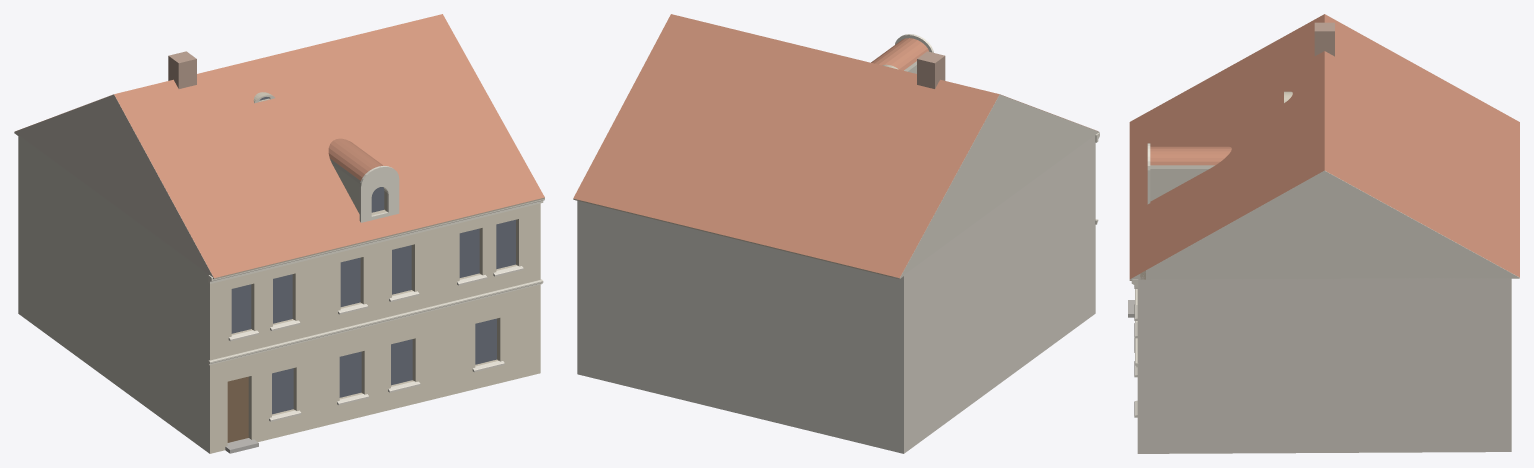
3 views of the same model, side by side, from view 1: azimuth 30°, elevation 25°; view 2: azimuth 150°, elevation 25°; view 3: azimuth 270°, elevation 25° (orthographic). The views are drawn at different scales.
Visible parts, largest first — view 1: CP_261_Masonry, CP_261_Roof, CP_261_Gable_L_gable, CP_261_Dormer_dormer1, CP_261_Cornice_string_0, CP_261_Dormer_dormer1_frame, CP_261_Cornice_eave_0, CP_261_Chimney_0, CP_261_Roof_EaveClosure_1; view 2: CP_261_Masonry, CP_261_Roof, CP_261_Gable_L_gable, CP_261_Dormer_dormer1, CP_261_Chimney_0, CP_261_Roof_EaveClosure_0; view 3: CP_261_Masonry, CP_261_Roof, CP_261_Gable_R_gable, CP_261_Dormer_dormer1, CP_261_Chimney_0.
Part boxes in pixels (box(x1,y1,x2,y2)): CP_261_Masonry: box(18, 135, 540, 453); CP_261_Roof: box(15, 14, 544, 277); CP_261_Gable_L_gable: box(14, 94, 220, 278); CP_261_Dormer_dormer1: box(328, 138, 387, 215); CP_261_Cornice_string_0: box(208, 279, 543, 365); CP_261_Dormer_dormer1_frame: box(359, 165, 399, 222); CP_261_Cornice_eave_0: box(208, 196, 544, 283); CP_261_Chimney_0: box(168, 51, 196, 88); CP_261_Roof_EaveClosure_1: box(213, 197, 544, 279); CP_261_Masonry: box(577, 135, 1095, 453); CP_261_Roof: box(573, 14, 1097, 277); CP_261_Gable_L_gable: box(893, 94, 1099, 278); CP_261_Dormer_dormer1: box(871, 38, 928, 73); CP_261_Chimney_0: box(917, 51, 945, 88); CP_261_Roof_EaveClosure_0: box(573, 199, 903, 279); CP_261_Masonry: box(1137, 277, 1511, 453); CP_261_Roof: box(1129, 14, 1519, 278); CP_261_Gable_R_gable: box(1130, 170, 1519, 280); CP_261_Dormer_dormer1: box(1150, 146, 1231, 201); CP_261_Chimney_0: box(1314, 22, 1334, 56).
Size of the model in its own units: 13.85 by 12.3 by 14.45.
